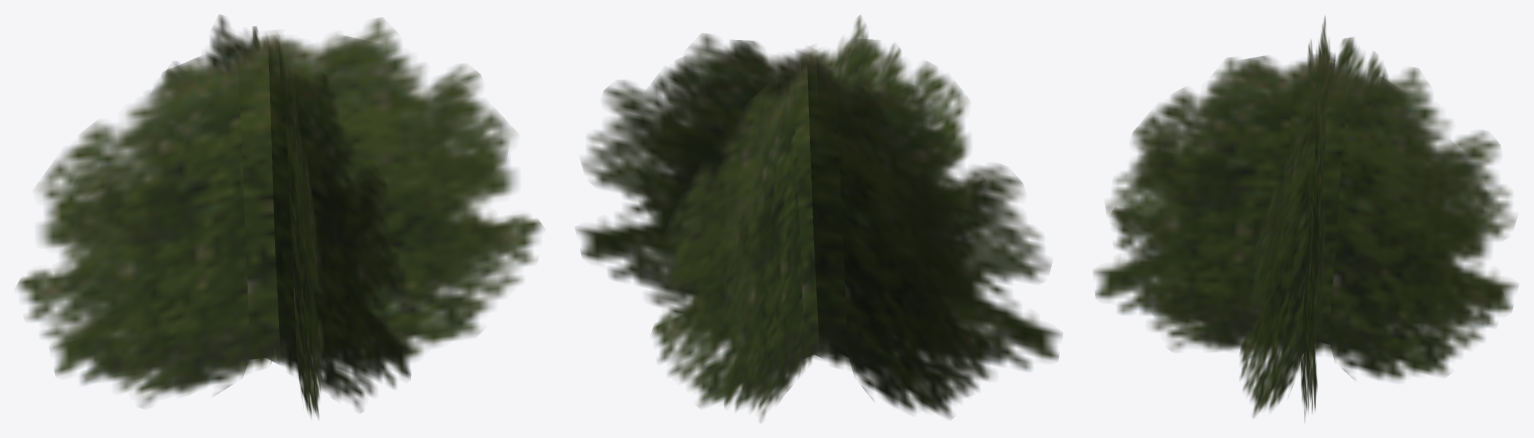
The model's file is forest_shrub_2.glb.
The picture shows the model from 3 angles, left to right: view 1: azimuth 30°, elevation 25°; view 2: azimuth 150°, elevation 25°; view 3: azimuth 270°, elevation 25°; orthographic projection. The views are drawn at different scales.
Parts seen in each view (by area): view 1: Background_Tree_Atlas.010_Background_Tree_Atlas_0; view 2: Background_Tree_Atlas.010_Background_Tree_Atlas_0; view 3: Background_Tree_Atlas.010_Background_Tree_Atlas_0.
Part boxes in pixels (bbox=[...]): Background_Tree_Atlas.010_Background_Tree_Atlas_0: bbox=[16, 15, 542, 418]; Background_Tree_Atlas.010_Background_Tree_Atlas_0: bbox=[575, 15, 1062, 422]; Background_Tree_Atlas.010_Background_Tree_Atlas_0: bbox=[1093, 16, 1518, 421].
Bounding box in the file's own units: 1.6 × 1.12 × 1.32.
Materials: 1 (1 with a texture image).
